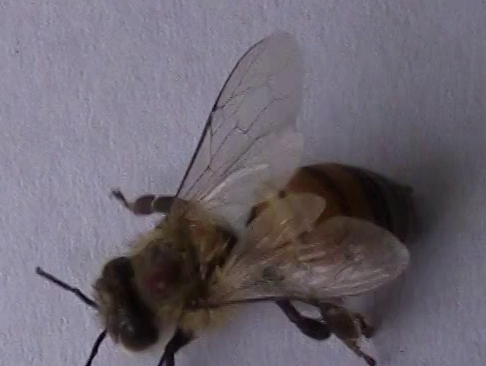Varroa destructor: (142, 263, 185, 298)
